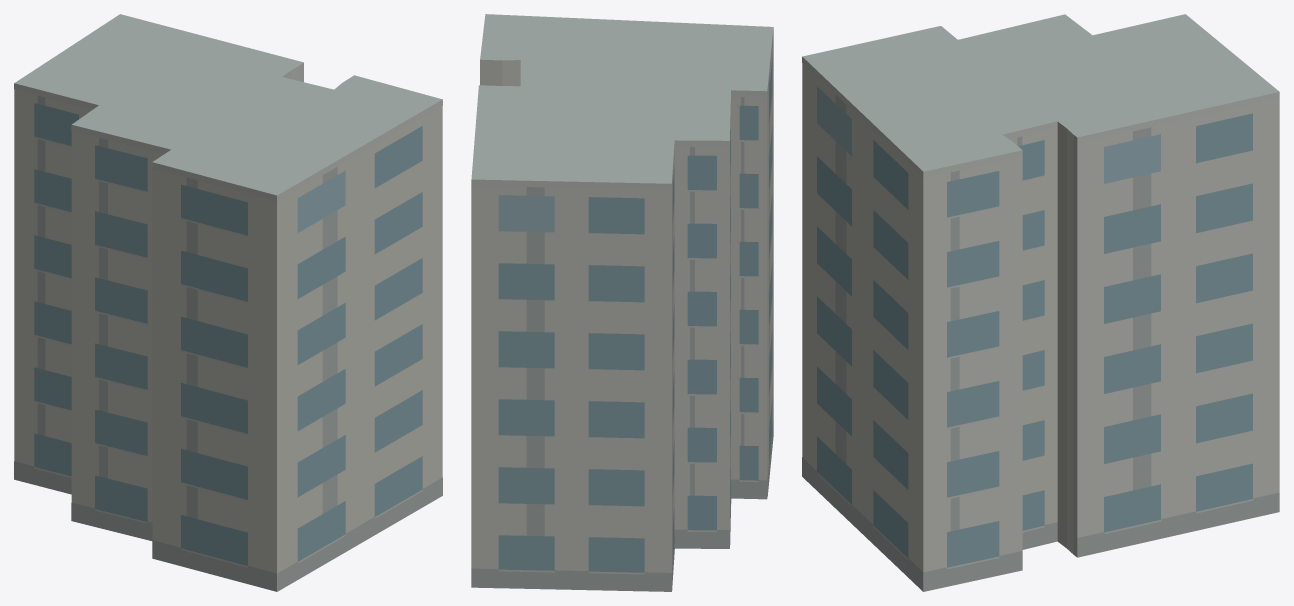
File: survey-upis-32886694.glb
3 renders of one model, left to right at view 1: azimuth 30°, elevation 25°; view 2: azimuth 150°, elevation 25°; view 3: azimuth 270°, elevation 25°, orthographic. The views are drawn at different scales.
Parts seen in each view (by area): view 1: survey-upis-32886694.tmp; view 2: survey-upis-32886694.tmp; view 3: survey-upis-32886694.tmp.
Part boxes in pixels (x1,y1,x2,y2): survey-upis-32886694.tmp: [14, 14, 442, 591]; survey-upis-32886694.tmp: [471, 14, 773, 591]; survey-upis-32886694.tmp: [802, 14, 1279, 591].
Size of the model in its own units: 12.57 by 15.6 by 16.07.
